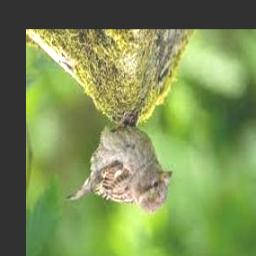Sparrow: (67, 112, 173, 216)
